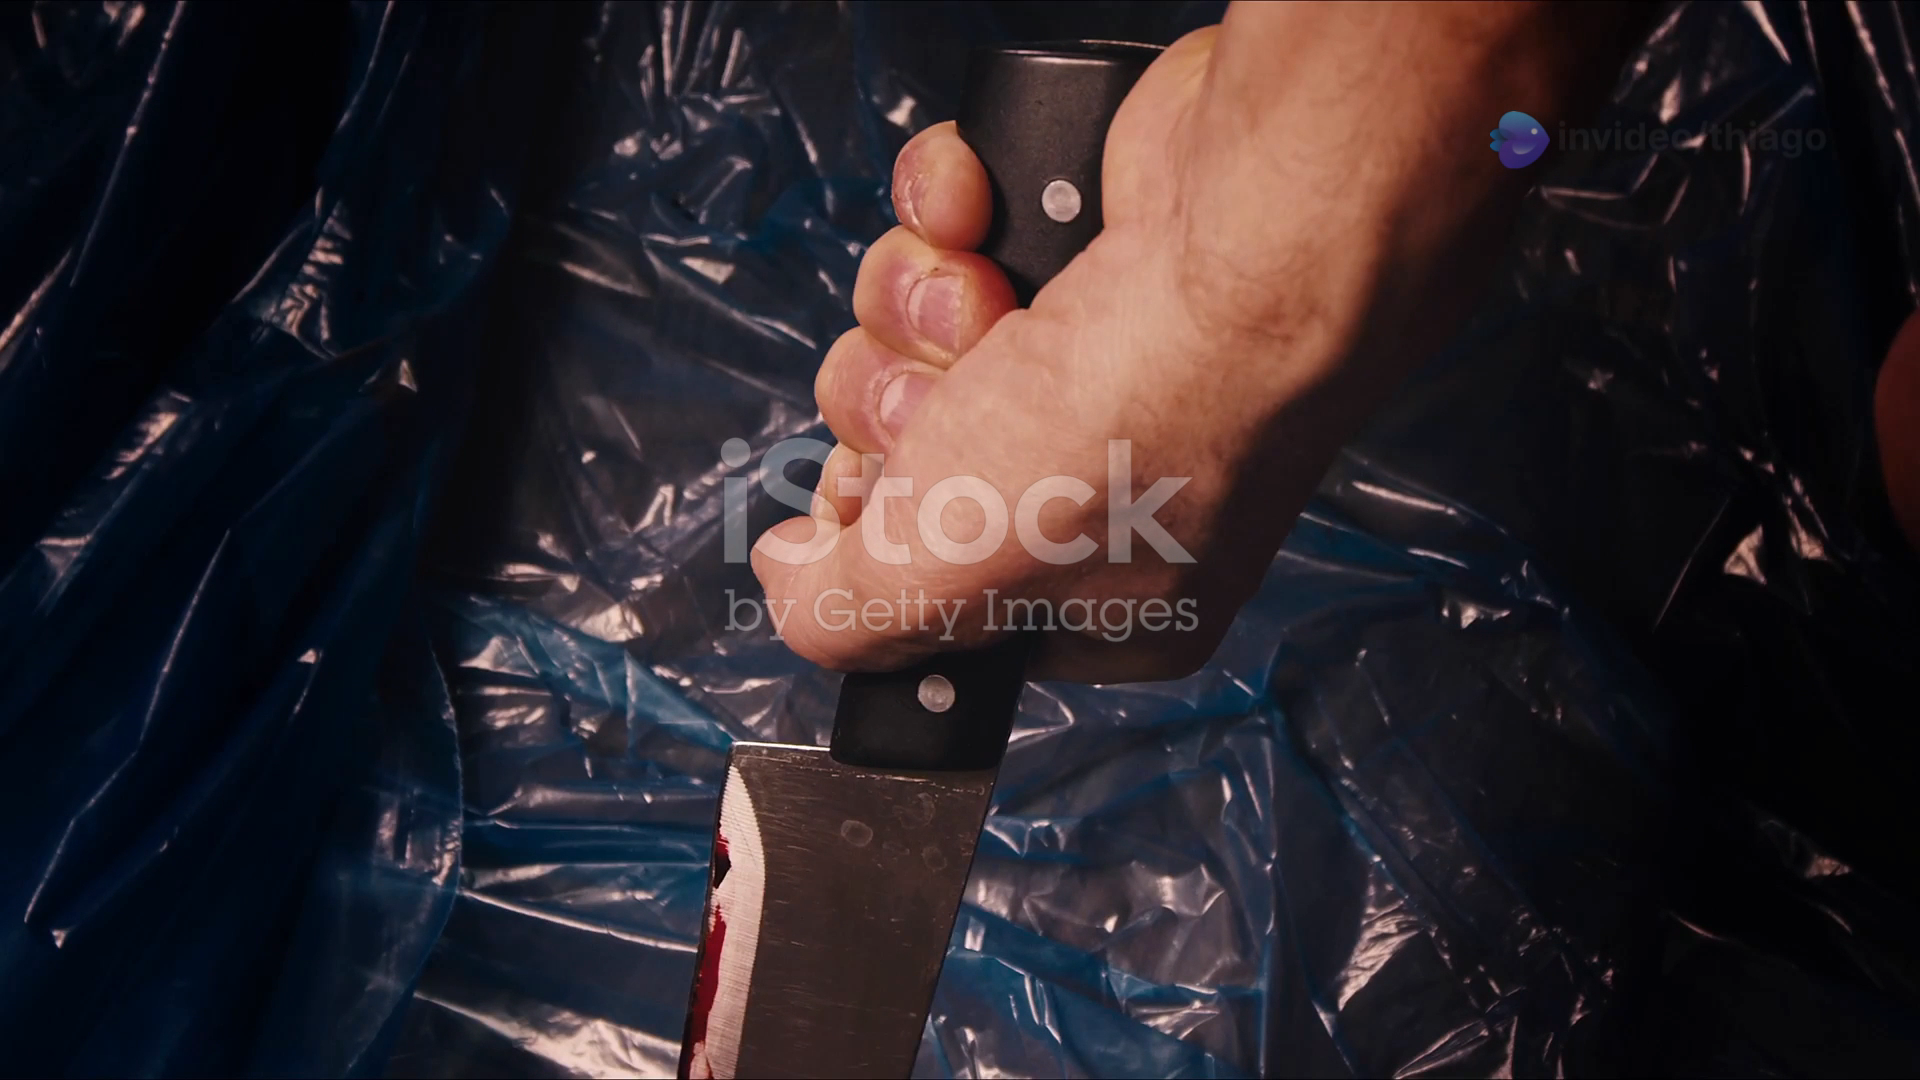cortante: (671, 740, 1000, 1080)
